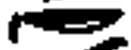Basket: (7, 7, 126, 40)
